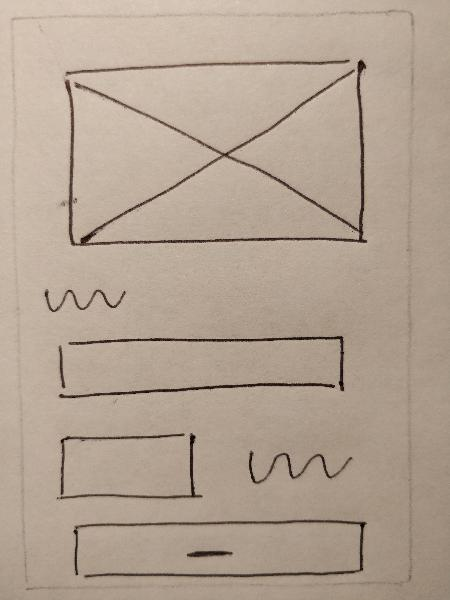button: (63, 514, 376, 581)
image: (56, 54, 376, 252)
text: (234, 436, 360, 495), (35, 276, 130, 321)
text_input: (43, 327, 358, 411), (49, 428, 207, 506)
